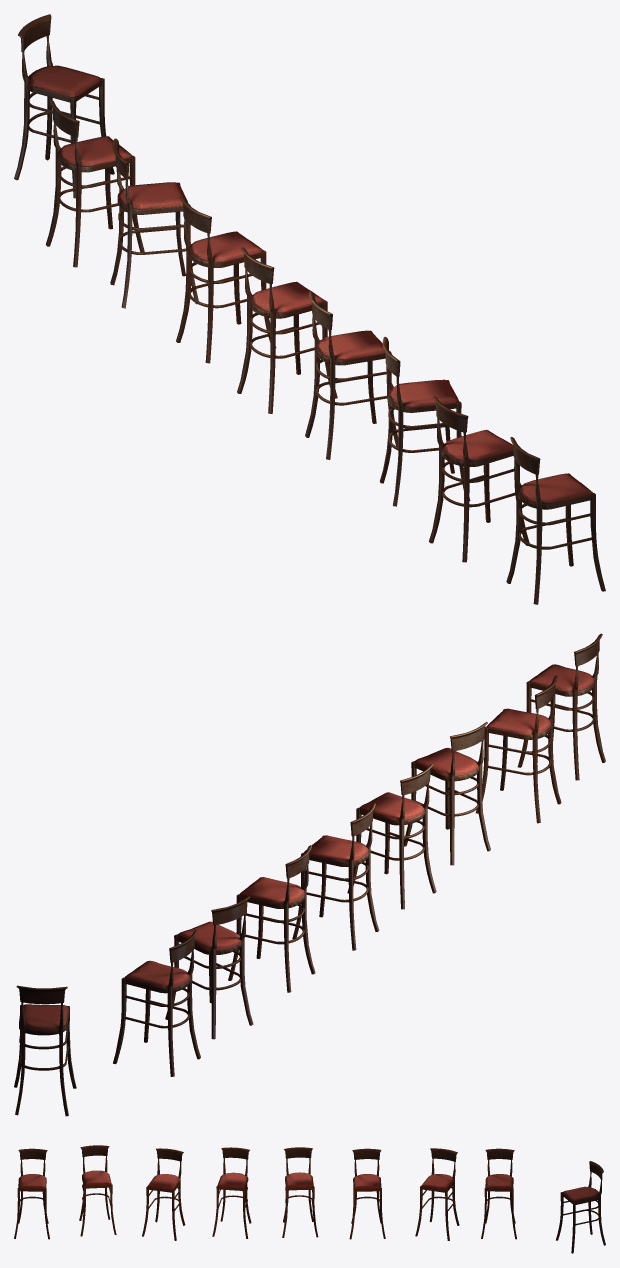
Rendered from barstools3.obj.
3 views of the same model, one above another, from view 1: azimuth 30°, elevation 25°; view 2: azimuth 150°, elevation 25°; view 3: azimuth 270°, elevation 25° (orthographic). The views are drawn at different scales.
Visible parts, largest first — view 1: barstools2; view 2: barstools2; view 3: barstools2.
Boxes of the visible parts, <box> form: barstools2: <box>14,14,605,604</box>; barstools2: <box>14,633,605,1116</box>; barstools2: <box>14,1145,605,1253</box>.
Bounding box in the file's own units: 1.09 × 1.08 × 7.78.
Materials: 1 (1 with a texture image).
